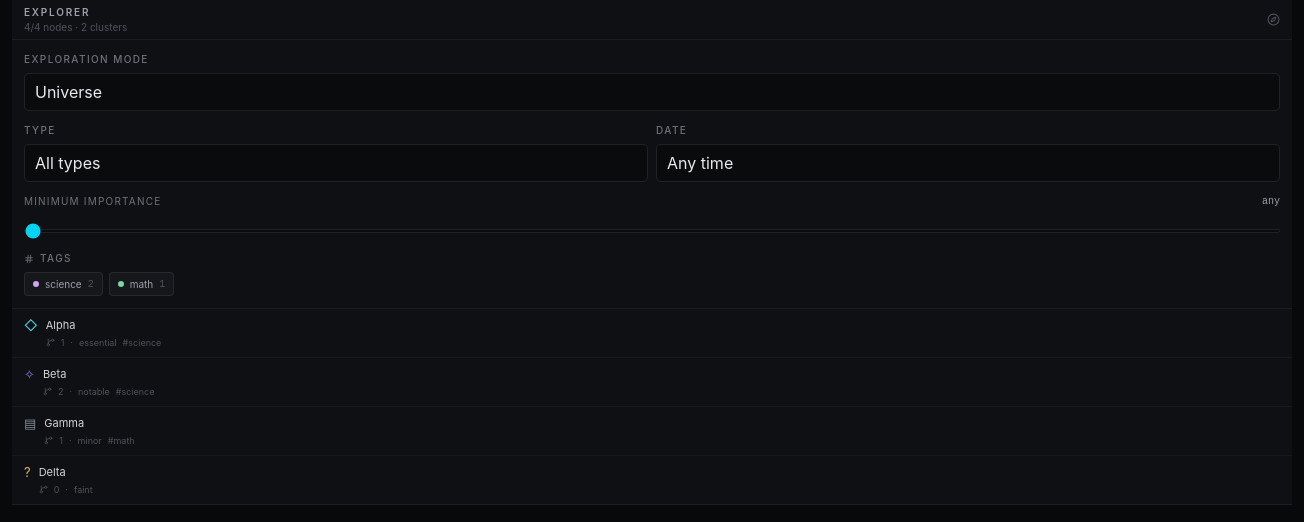
Test: ExplorerPanel › filters by node type
The width and height of the screenshot is (1304, 522).
Select "Idea" in the dropdown labelled "Type" at (336, 163), box [24,144,648,182]
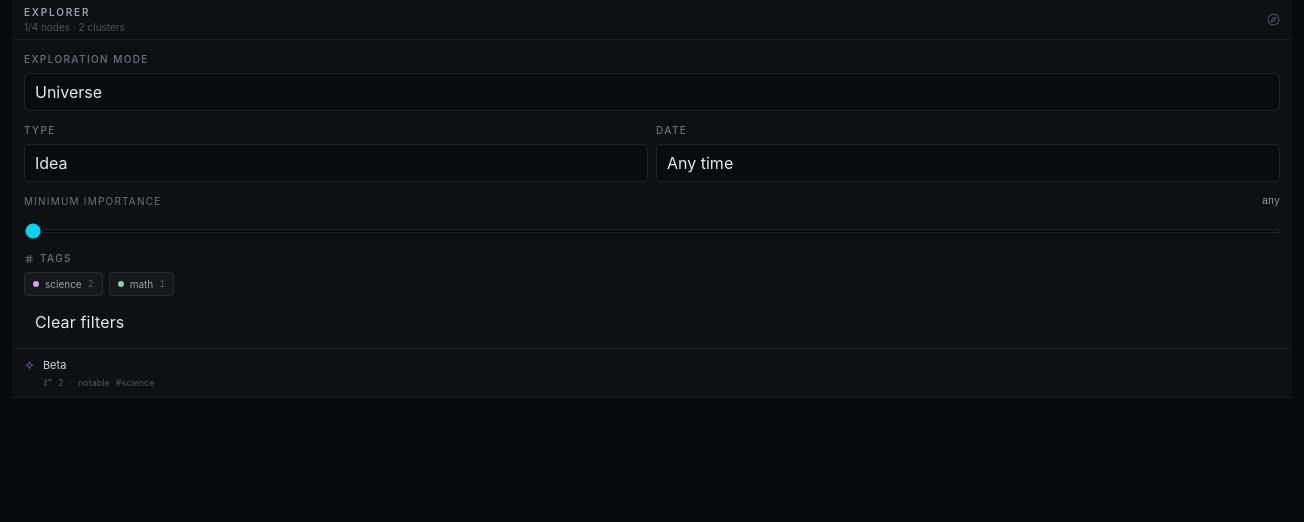
Expected: the button "✧ Beta 2 · notable #science" is shown, [12,349,1292,397]
Expected: the text "1/4 nodes · 2 clusters" is shown, [24,20,125,32]
Expected: the button "Alpha" is gone
